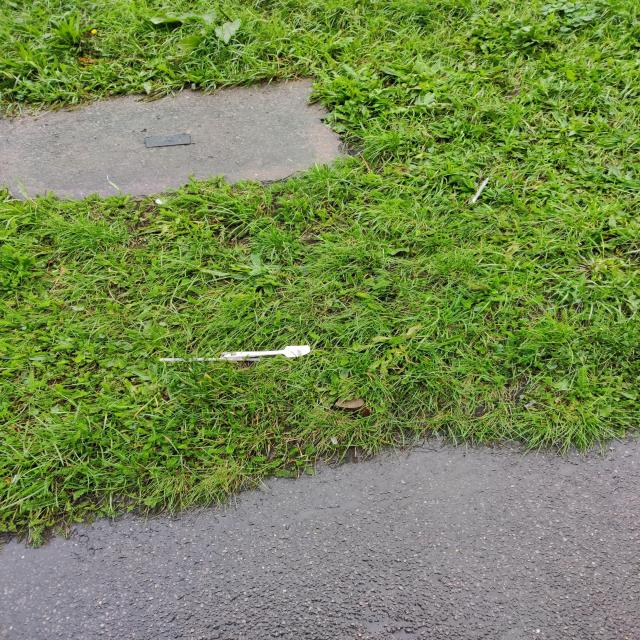litter: (157, 342, 314, 364), (143, 132, 194, 151), (466, 174, 493, 207)
